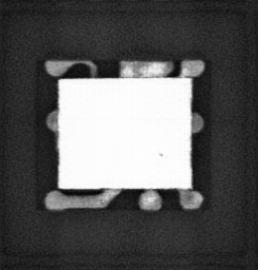DIE_INK: (157, 151, 165, 158)
